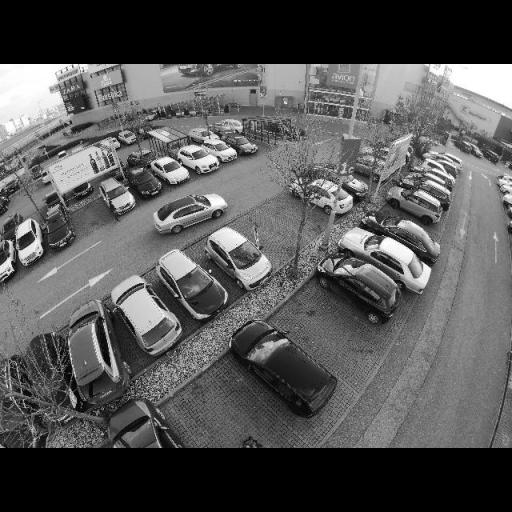busy: (237, 326, 341, 415), (52, 298, 132, 406), (109, 276, 182, 358), (153, 250, 229, 320), (340, 231, 430, 286), (323, 255, 400, 315), (105, 400, 188, 448), (202, 228, 270, 286), (365, 214, 438, 256), (155, 195, 224, 232), (384, 187, 444, 221), (301, 180, 353, 212), (110, 172, 156, 206), (12, 219, 47, 263), (99, 180, 136, 214), (45, 210, 75, 250), (150, 157, 191, 185), (128, 167, 164, 198), (178, 148, 219, 174), (406, 180, 452, 200), (222, 134, 260, 156), (200, 140, 236, 161), (416, 171, 454, 187), (188, 130, 218, 144), (118, 132, 140, 146)
free: (194, 404, 265, 446), (303, 318, 353, 356), (248, 221, 293, 261), (274, 206, 321, 234), (78, 210, 108, 226)
